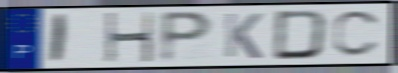C: (331, 9, 384, 59)
D: (270, 8, 330, 62)
H: (103, 10, 156, 65)
I: (47, 13, 71, 65)
K: (222, 11, 264, 61)
P: (158, 10, 216, 65)
